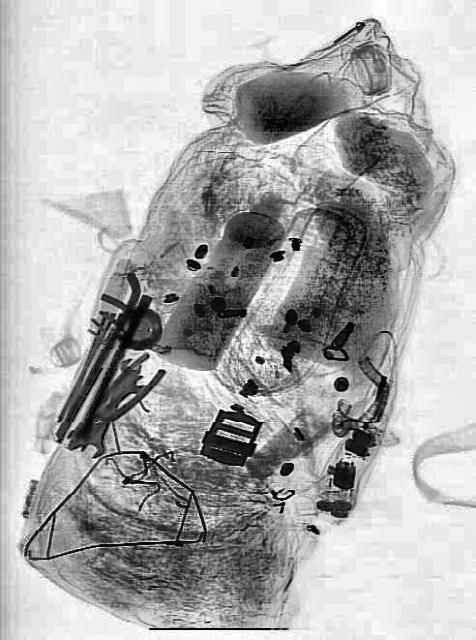Wrench: (75, 352, 147, 462)
